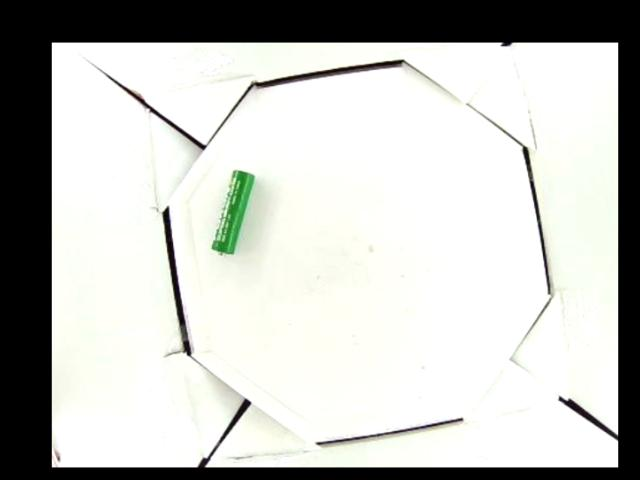Battery: (210, 169, 256, 255)
